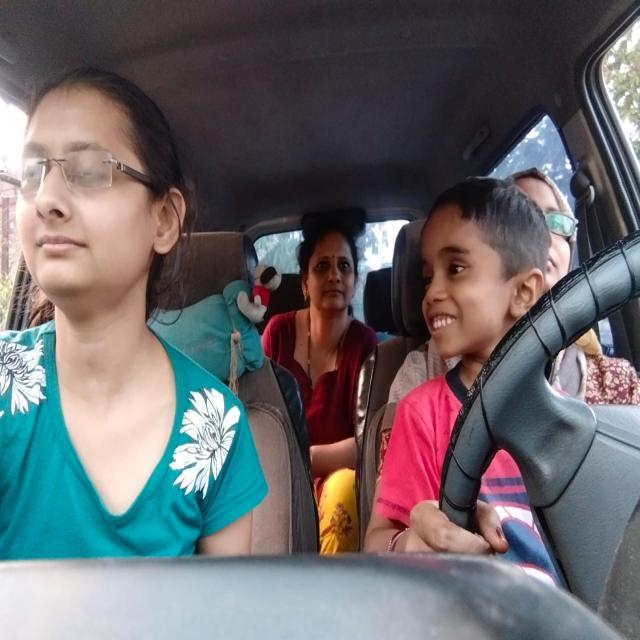child: (416, 186, 544, 351)
person: (7, 42, 190, 360), (287, 199, 368, 334), (518, 146, 580, 291)
